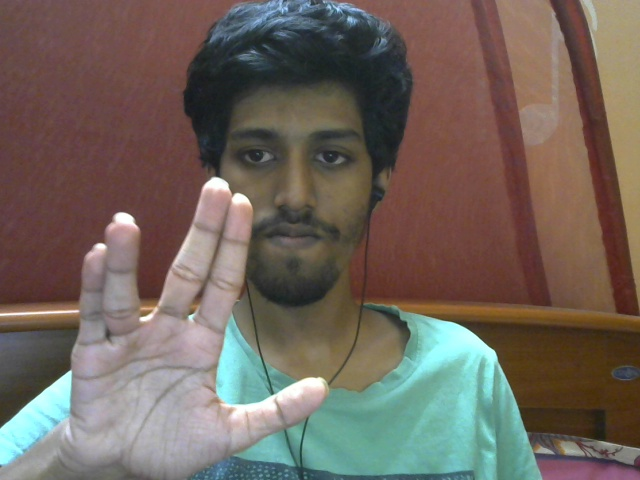LiveLong: (60, 176, 332, 480)
